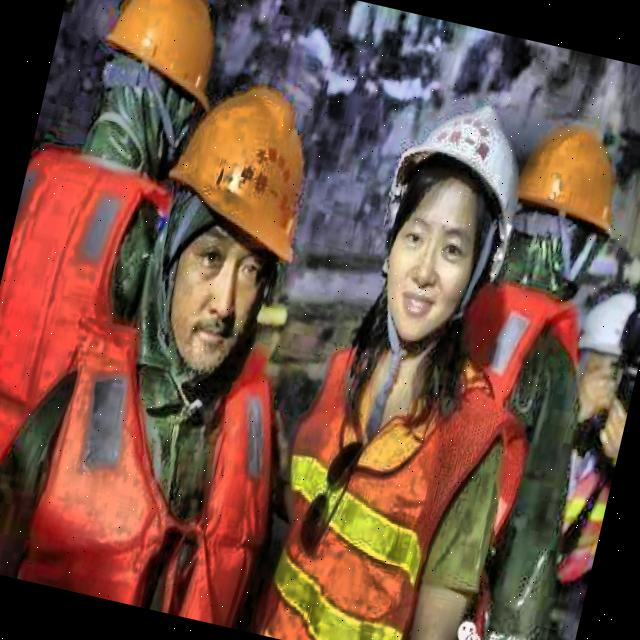helmet: (114, 61, 333, 395), (344, 70, 546, 372), (68, 0, 235, 188), (494, 105, 634, 316)
